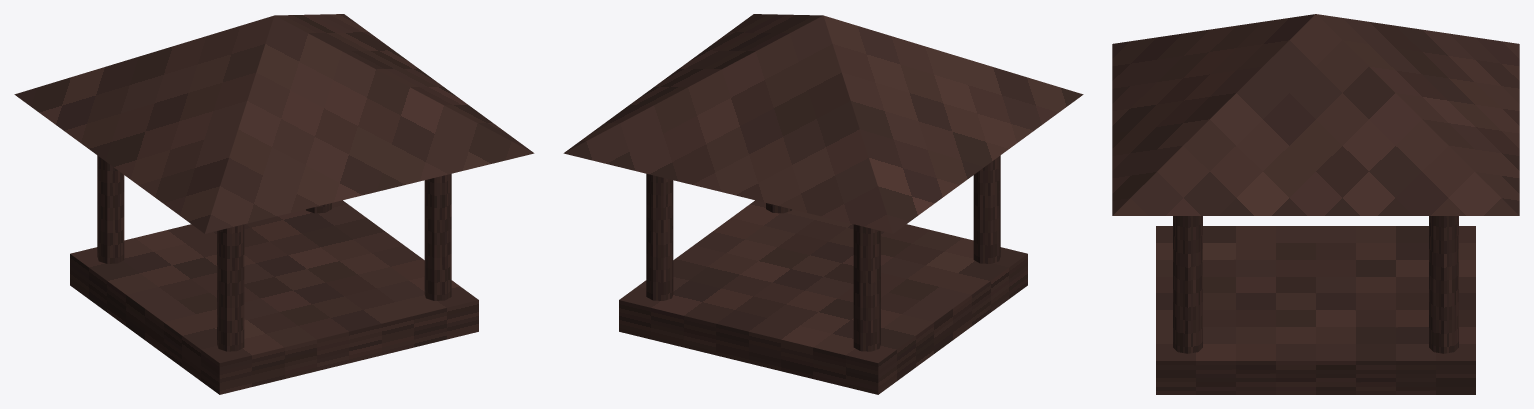
Rendered from pavilion_01.glb.
3 views of the same model, side by side, from view 1: azimuth 30°, elevation 25°; view 2: azimuth 150°, elevation 25°; view 3: azimuth 270°, elevation 25° (orthographic). The views are drawn at different scales.
Visible parts, largest first — view 1: Roof, Floor, Column, Column.002, Column.001; view 2: Roof, Floor, Column.001, Column.003, Column; view 3: Roof, Floor, Column.002, Column.003.
Boxes of the visible parts, x1=… form: Roof: x1=14, y1=14, x2=534, y2=233; Floor: x1=70, y1=200, x2=478, y2=394; Column: x1=217, y1=224, x2=244, y2=351; Column.002: x1=424, y1=173, x2=451, y2=300; Column.001: x1=97, y1=155, x2=124, y2=263; Roof: x1=563, y1=14, x2=1083, y2=233; Floor: x1=619, y1=200, x2=1027, y2=394; Column.001: x1=853, y1=224, x2=880, y2=351; Column.003: x1=646, y1=173, x2=673, y2=300; Column: x1=973, y1=155, x2=1000, y2=263; Roof: x1=1112, y1=14, x2=1519, y2=215; Floor: x1=1156, y1=226, x2=1475, y2=394; Column.002: x1=1173, y1=216, x2=1202, y2=353; Column.003: x1=1429, y1=216, x2=1458, y2=353.
Size of the model in its own units: 3.27 by 2.77 by 3.27.
1 material, 1 textured.
